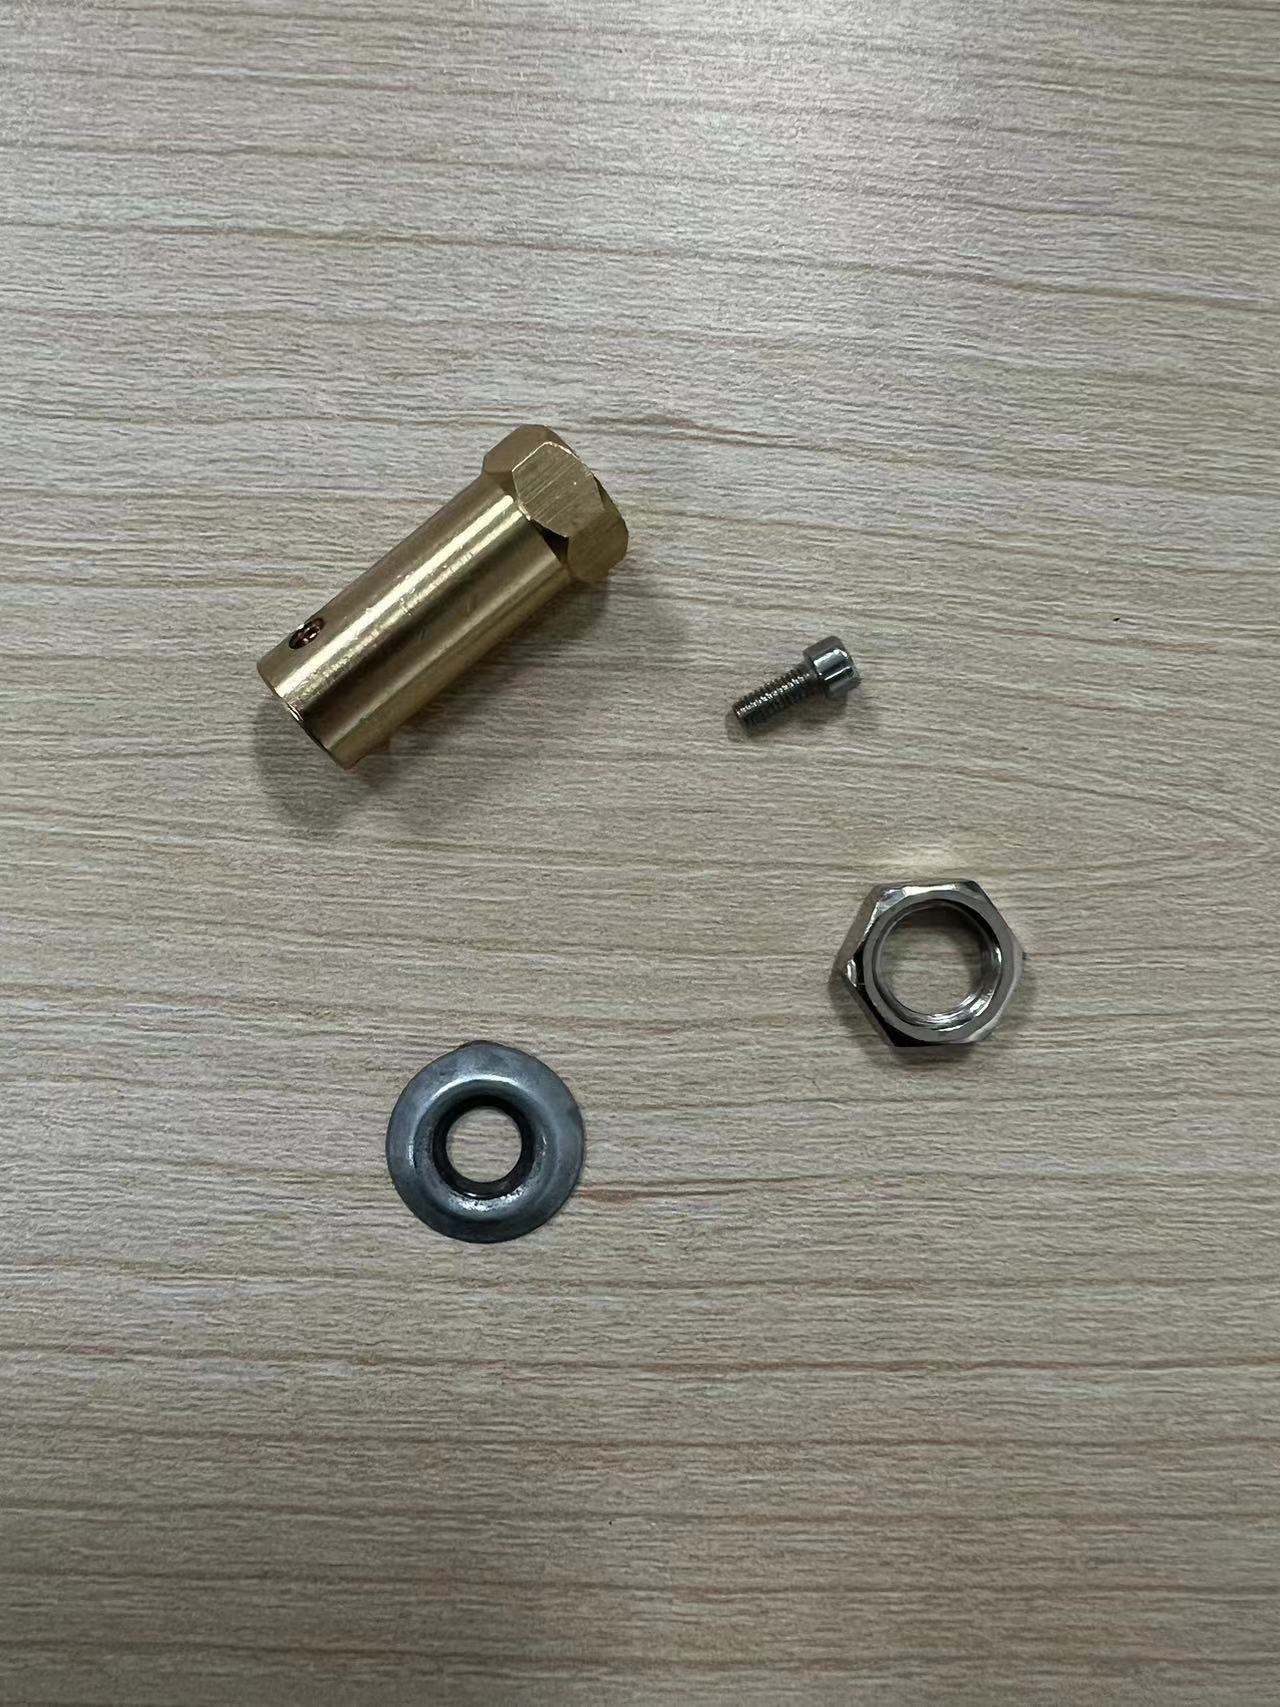Hexagon nut: (813, 866, 1049, 1077)
Hexagon pillar: (227, 409, 641, 796)
Round head screw: (709, 620, 883, 758)
Spring washer: (382, 1026, 602, 1247)
